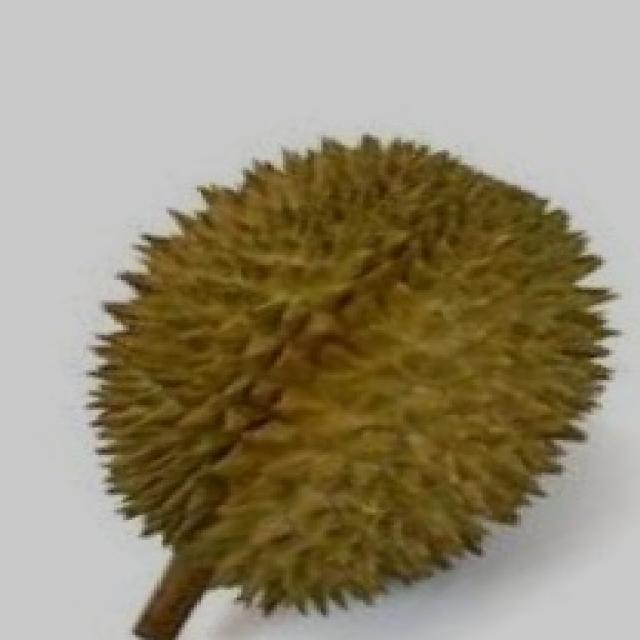fruit: (267, 212, 640, 637), (40, 255, 418, 640)
